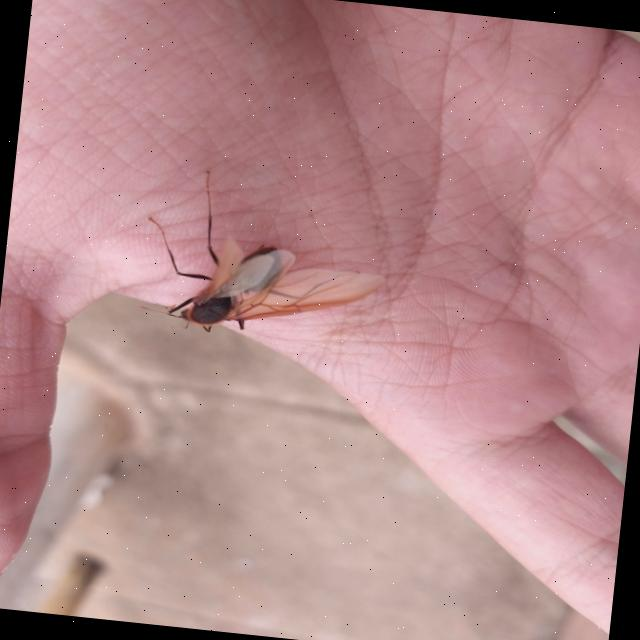Alive-Male-Alate: (137, 162, 398, 351)
